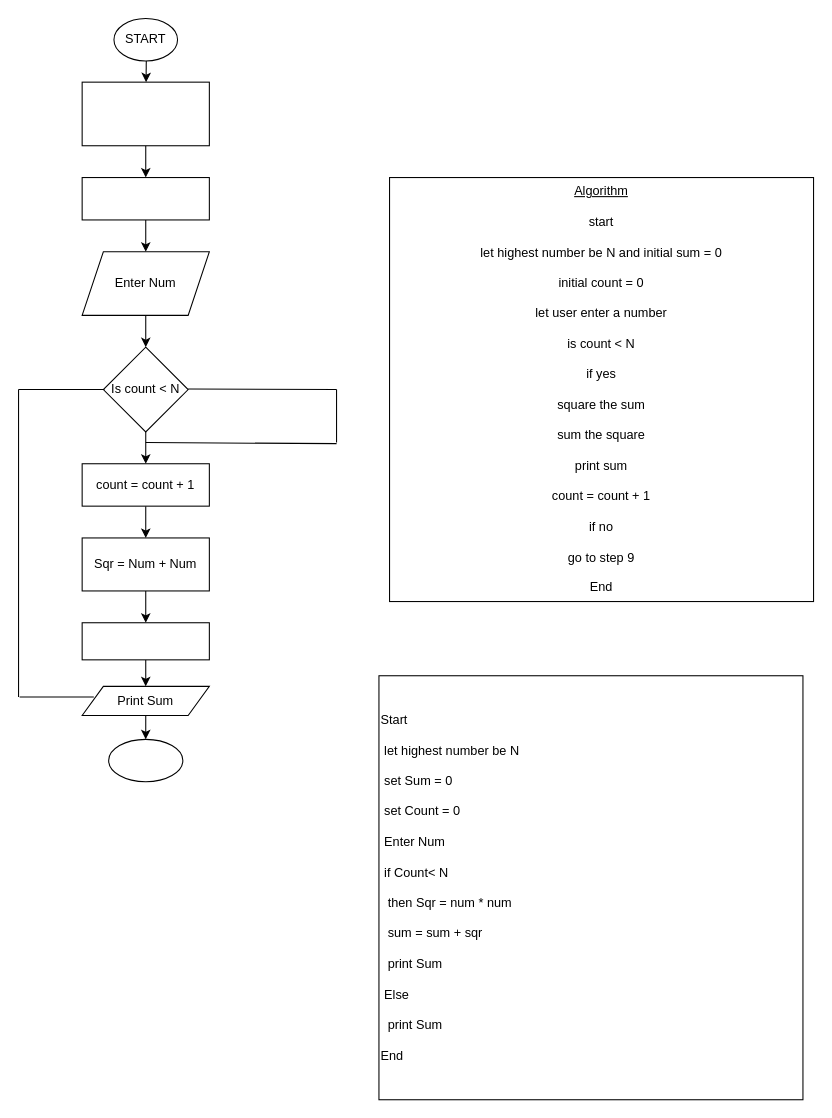
Some shapes in this 832 by 1118 pixel diagram are drawn without their labels. The shapes that lost their labels are listed below. From the top down, each one's centre as x and y in pixels, then its label:
At [145,113]: "Let highest num be N, Sum = 0".
At [145,198]: "count = 0".
At [145,641]: "Sum = Sum +Sqr".
At [145,760]: "END".
